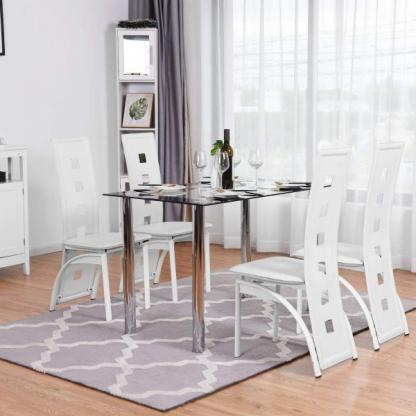chair: (231, 149, 362, 376), (291, 137, 409, 349), (43, 129, 151, 323), (122, 125, 213, 294)
table: (92, 167, 334, 349)
